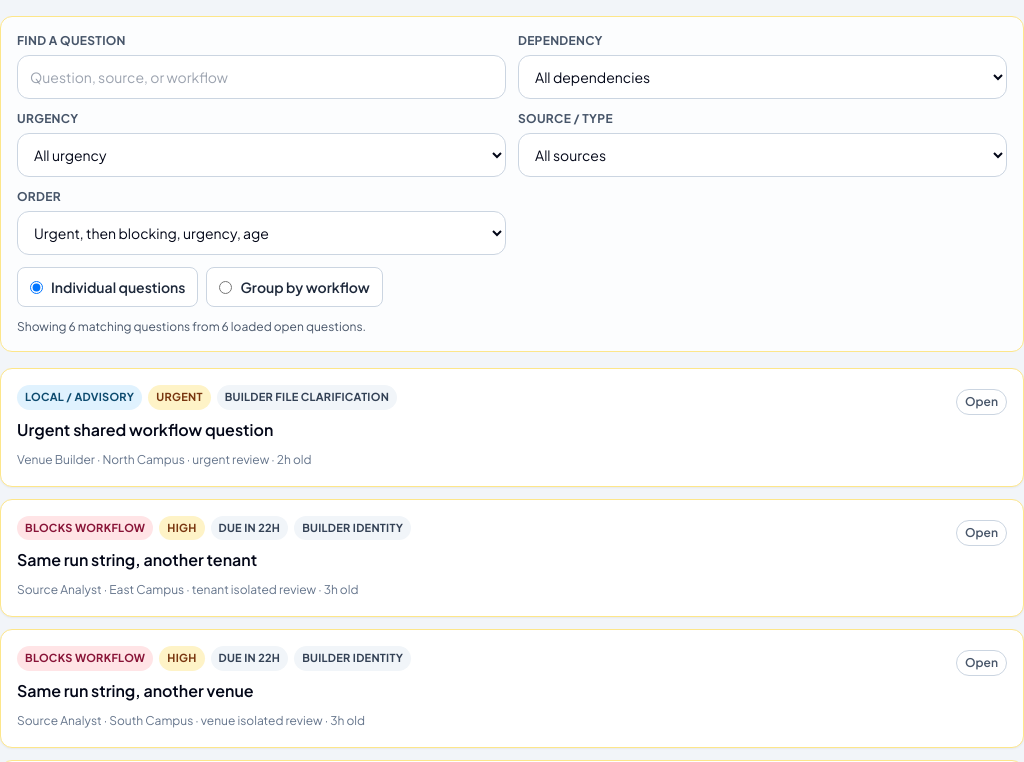
it: FounderQuestionTriageBoard › groups only the exact tenant, venue, and workflow identity after filtering
The image size is (1024, 762).
Expected: the radio button labelled "Individual questions" is checked, [30,280,43,294]
Click the radio button labelled "Group by workflow". click: [226, 287]
box: [220,280,232,294]
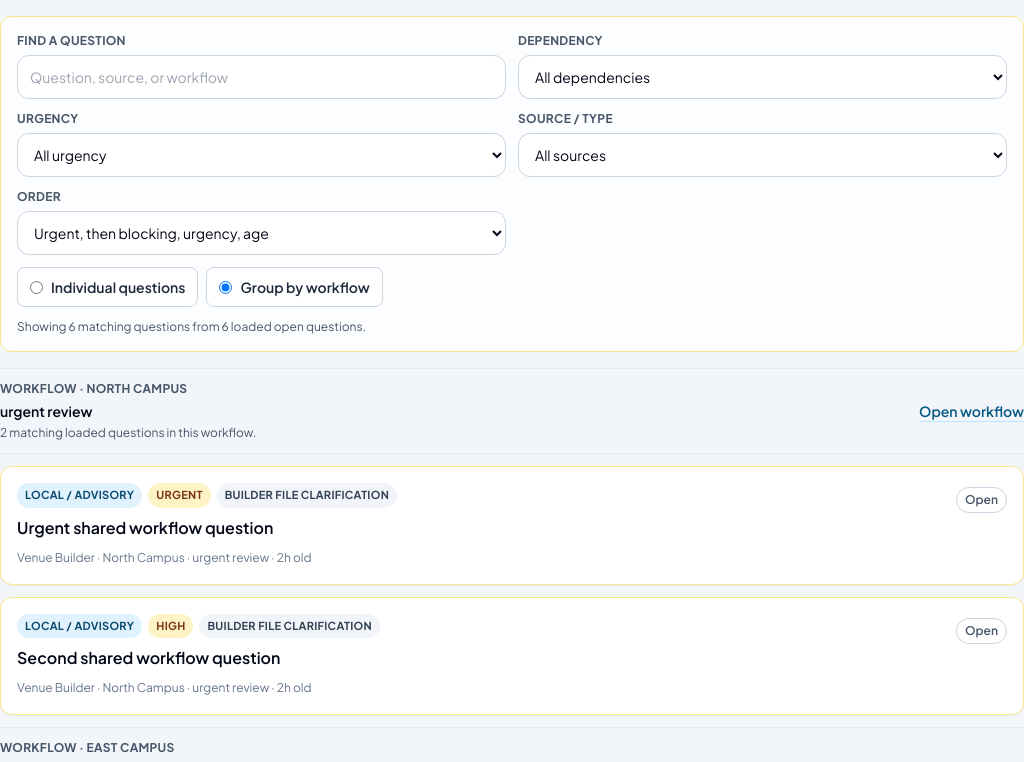
Expected: the text "urgent review" is shown, [0,402,92,420]
Expected: the text "2 matching loaded questions in this workflow." is shown, [0,425,256,441]
Expected: the number of links "Open workflow" is 3
Type "Second shared workflow" into the search field labelled "Find a question". click: [262, 77]
box: [17,55,506,99]
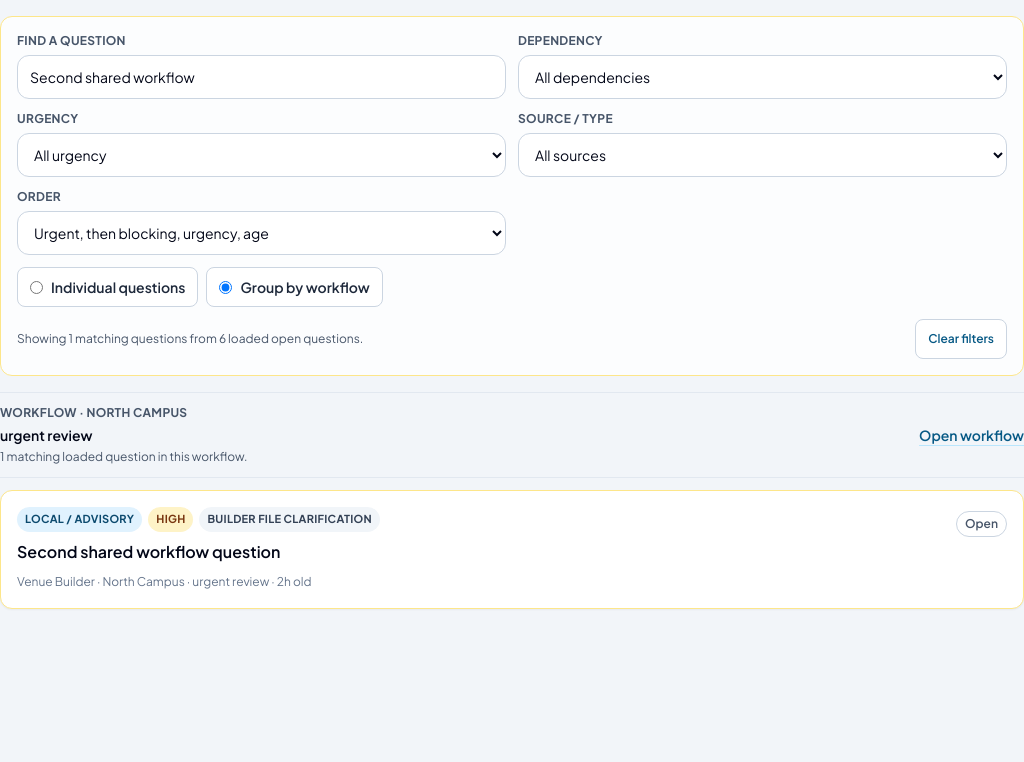
Expected: the text "1 matching loaded question in this workflow." is shown, [0,449,248,465]
